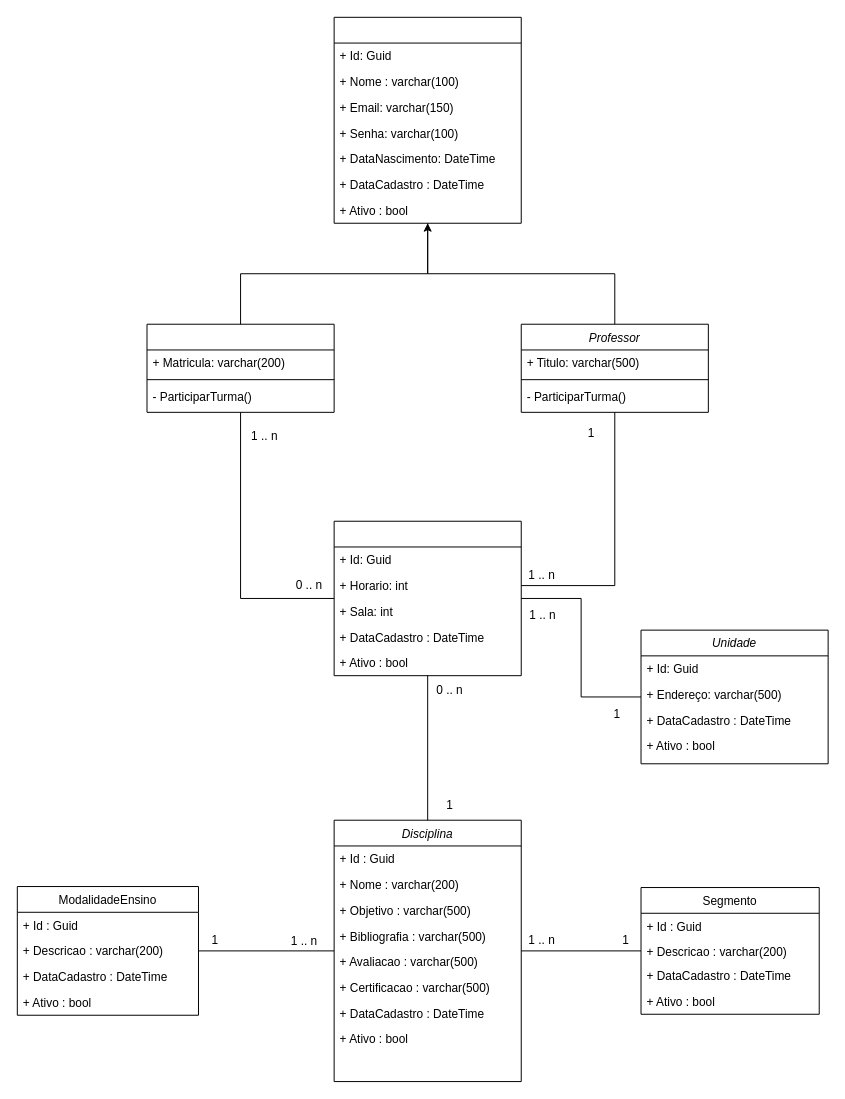
Some shapes in this 845 by 1099 pixel diagram are drawn without their labels. The shapes that lost their labels are listed below. From the top down, each one's box as (x1, y1, x2, y2) in pixels, then its label:
(333, 16, 521, 223): Usuario
(146, 323, 334, 412): Aluno
(333, 520, 521, 676): Turma
